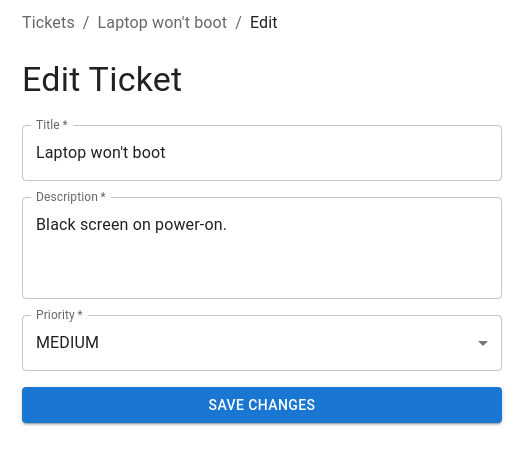
Test: Update ticket › blocks an empty-title save and preserves the edit rather than discarding it or navigating away (FR-013)
The width and height of the screenshot is (525, 473).
Step 1. Clear the field labelled "Title *" → x=262, y=153, box [22, 125, 502, 181]
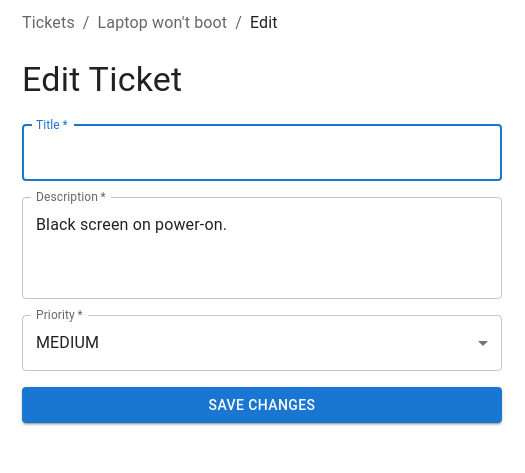
Step 2. Click the button "Save Changes" → x=262, y=405, box [22, 387, 502, 424]
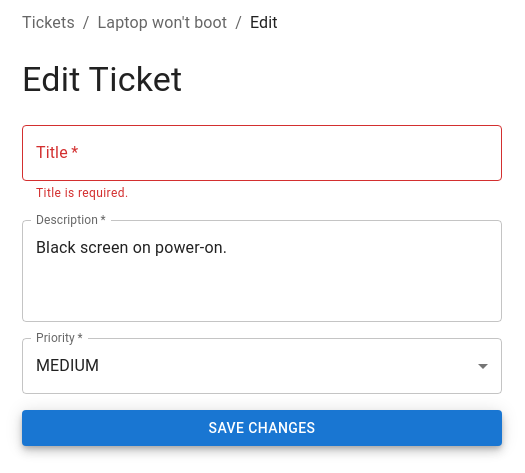
Expected: the button "Save Changes" is shown, [22, 410, 502, 446]
Expected: the text "Title is required." is shown, [36, 186, 128, 200]
